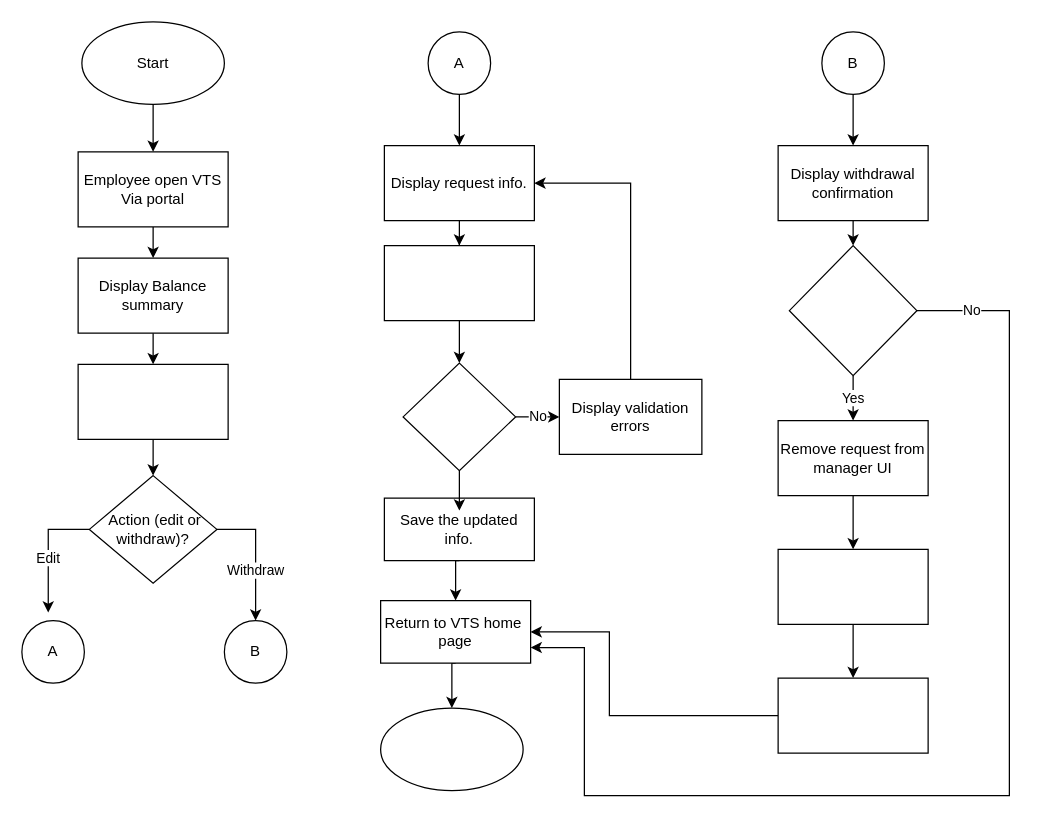
Image size: 1041x828. Some labels were removed from this diagram. Here are the shapes that lost their labels. From the top down, the box of each, then its label:
(383, 244, 534, 321): change title,comments or dates
(788, 244, 917, 376): If employee confirmed?
(77, 363, 228, 439): Select pending request to edit
(402, 362, 516, 471): Is changes accepted?
(777, 548, 928, 624): Update request status to withdraw
(777, 677, 928, 753): Notify the manager via email
(379, 707, 523, 791): End
